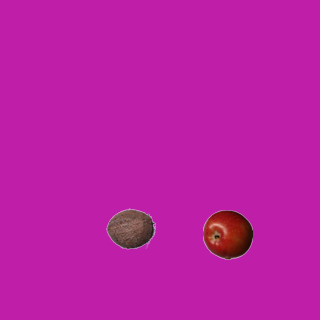Apple Braeburn: (202, 209, 252, 259)
Cocos: (105, 203, 155, 253)
